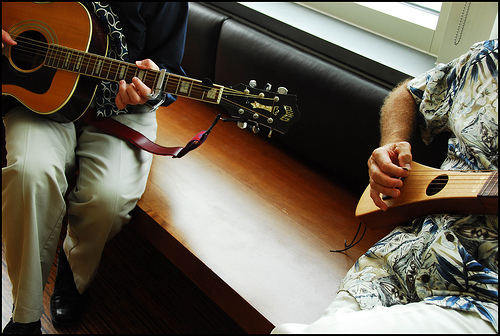guitar: (1, 1, 301, 141)
